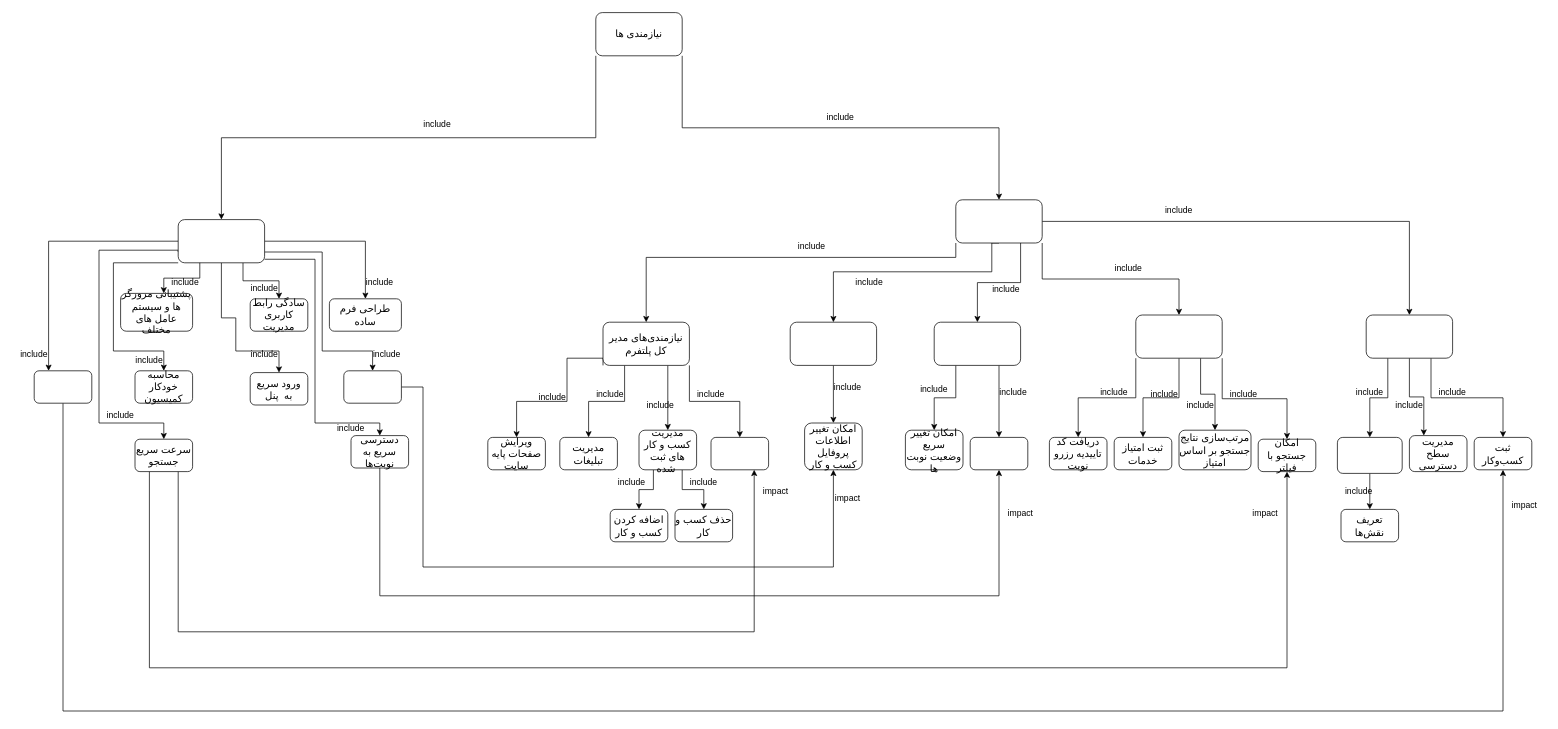
Some shapes in this 1558 by 729 pixel diagram are drawn without their labels. The shapes that lost their labels are listed below. From the top down, each one's centre as x and y in pixels, then its label:
At point 221,241: "نیازمندی های غیر کارکردی".
At point 998,221: "نیازمندی های کارکردی".
At point 833,343: "نیازمندی‌های پشتیبان سازمان".
At point 977,343: "نیازمندی‌های کارمندان حضوری".
At point 1178,336: "نیازمندی‌های مشتری".
At point 1409,336: "نیازمندی‌ های مدیر کسب‌وکار".
At point 62,386: "امکان ثبت سریع کسب و کار".
At point 372,386: "ویرایش سریع اطلاعات".
At point 739,453: "جستجوی کاربران".
At point 998,453: "نمایش نوبت‌های امروز".
At point 1369,455: "اضافه کردن کارمندان".
